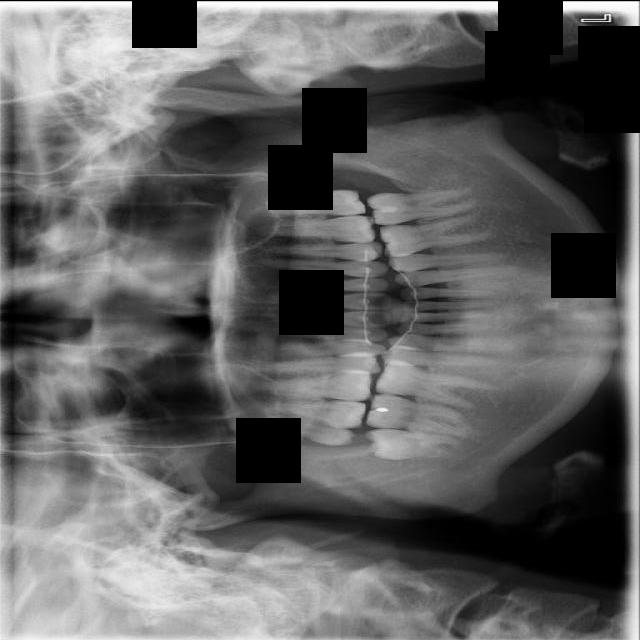3M ESPE Implant: (262, 404, 358, 452)
52: (366, 390, 415, 432), (365, 187, 412, 229)
73: (564, 35, 574, 38)
BioHorizons Implant: (254, 188, 366, 215)
Blue Sky Bio Implant: (366, 185, 477, 227)
Caries: (246, 398, 367, 428)
Implant: (365, 389, 476, 442)
Keystone Dental Implant: (362, 426, 460, 464)
